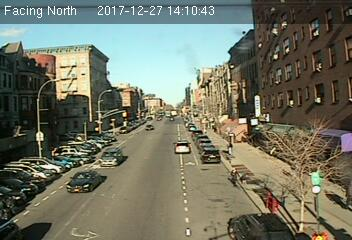car: (228, 209, 296, 240), (66, 168, 102, 193), (99, 149, 124, 166), (201, 149, 222, 162), (172, 141, 192, 153)
